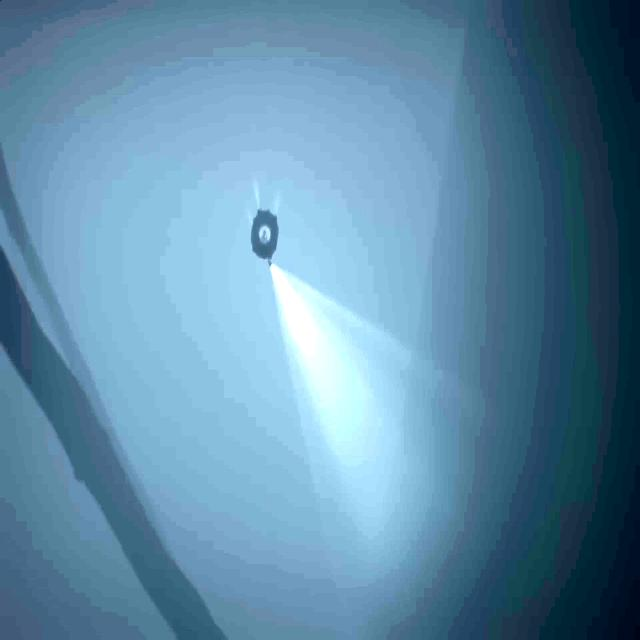submarine: (251, 208, 279, 268)
